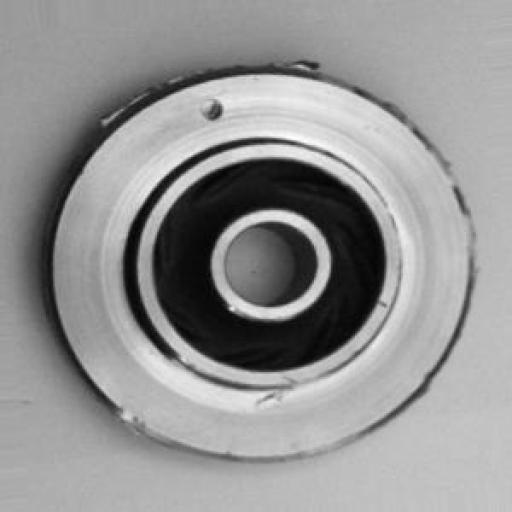defect: (39, 37, 488, 458)
